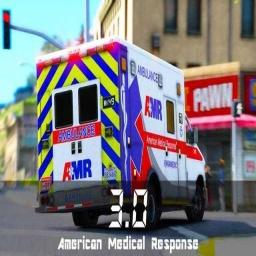Ambulance: (36, 37, 205, 227)
